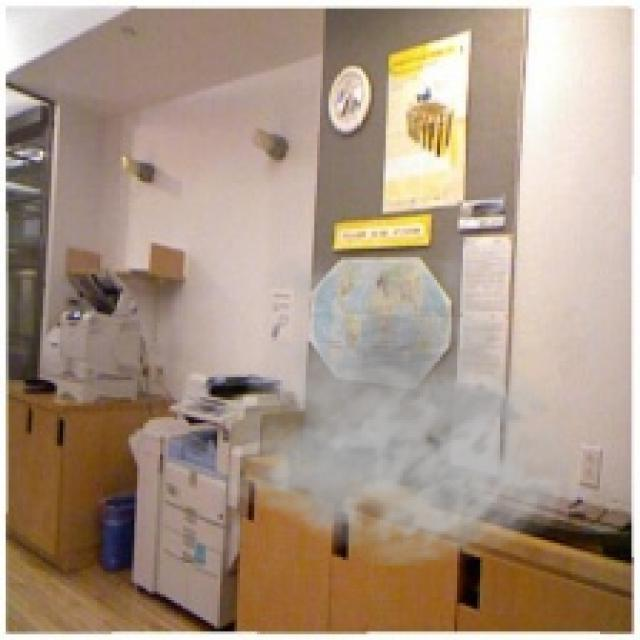Smoke: (206, 222, 592, 568)
